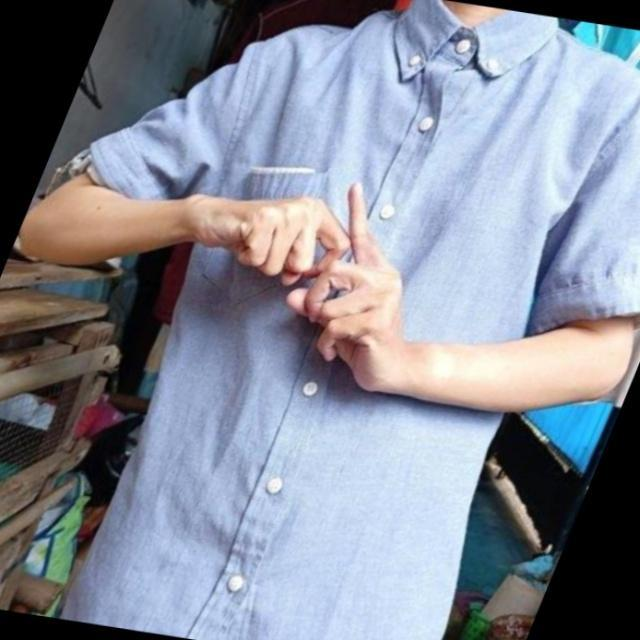K: (251, 170, 418, 397)
